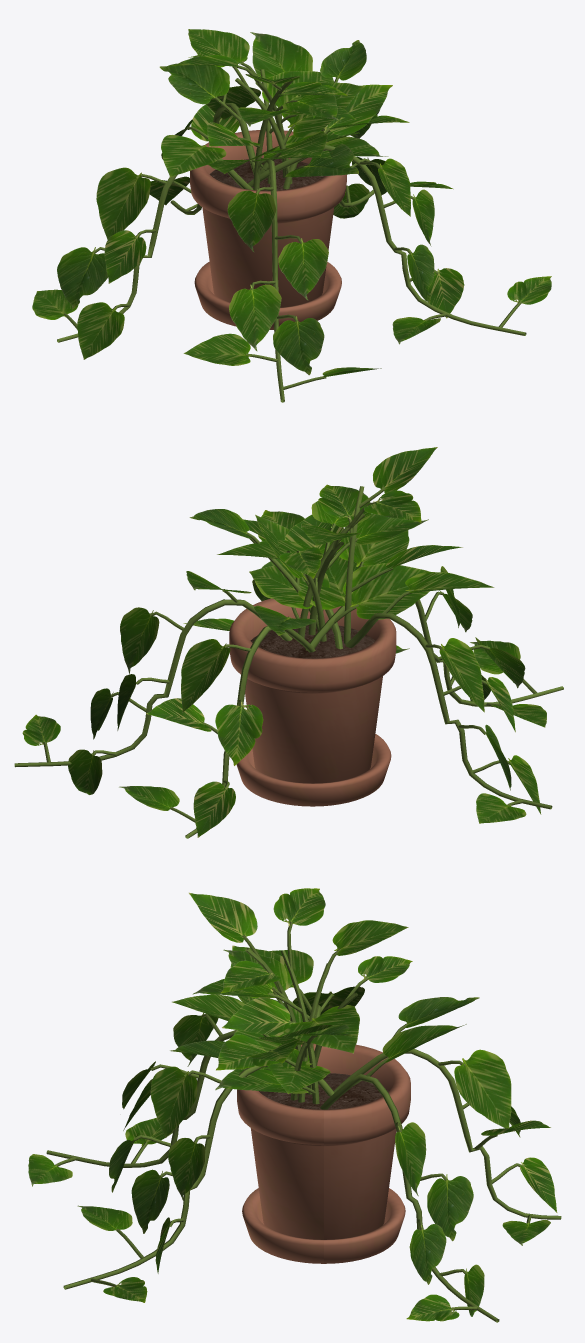
The model's file is potus_sobremesa_30.glb.
3 renders of one model, top to bottom at view 1: azimuth 30°, elevation 25°; view 2: azimuth 150°, elevation 25°; view 3: azimuth 270°, elevation 25°, orthographic. The views are drawn at different scales.
Visible parts, largest first — view 1: potus_sobremesa_30; view 2: potus_sobremesa_30; view 3: potus_sobremesa_30.
Part boxes in pixels (bbox=[...]): potus_sobremesa_30: bbox=[32, 29, 551, 402]; potus_sobremesa_30: bbox=[14, 447, 563, 838]; potus_sobremesa_30: bbox=[28, 888, 561, 1322].
Bounding box in the file's own units: 0.5028 × 0.3042 × 0.48.
3 materials, 3 textured.
